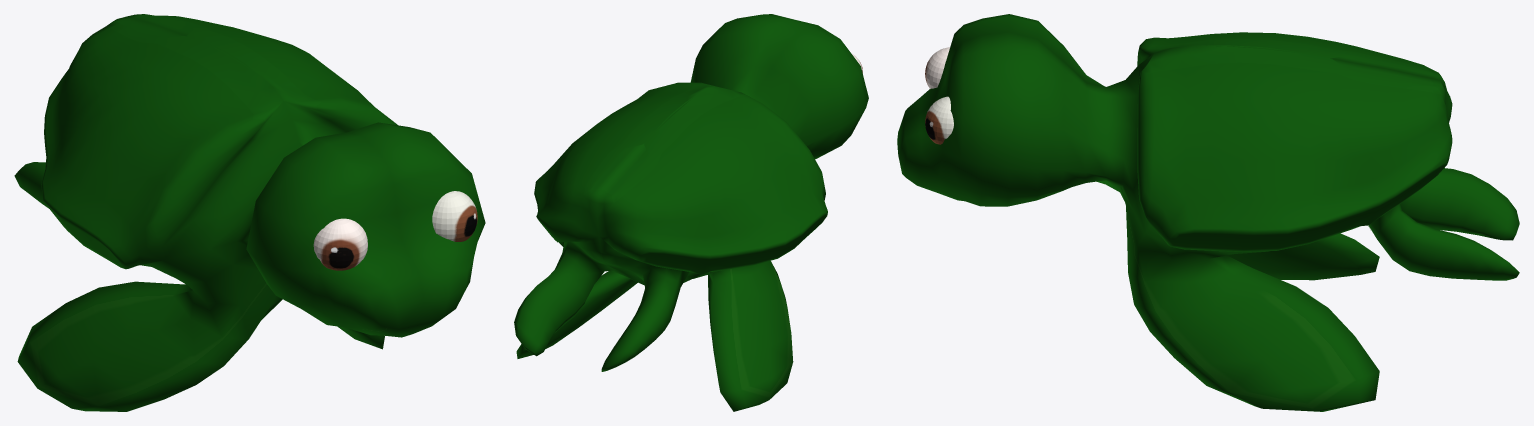
Rendered from turtle_colored.glb.
3 renders of one model, left to right at view 1: azimuth 30°, elevation 25°; view 2: azimuth 150°, elevation 25°; view 3: azimuth 270°, elevation 25°, orthographic. The views are drawn at different scales.
Parts seen in each view (by area): view 1: Cube, Sphere.001, Sphere; view 2: Cube; view 3: Cube, Sphere, Sphere.001.
Part boxes in pixels (x1=…): Cube: x1=14, y1=14, x2=485, y2=411; Sphere.001: x1=313, y1=218, x2=367, y2=270; Sphere: x1=432, y1=191, x2=477, y2=241; Cube: x1=514, y1=14, x2=868, y2=411; Cube: x1=897, y1=14, x2=1519, y2=411; Sphere: x1=925, y1=96, x2=953, y2=144; Sphere.001: x1=925, y1=47, x2=949, y2=88.
Bounding box in the file's own units: 5.38 × 5.2 × 9.36.
Materials: 3 (3 with a texture image).
